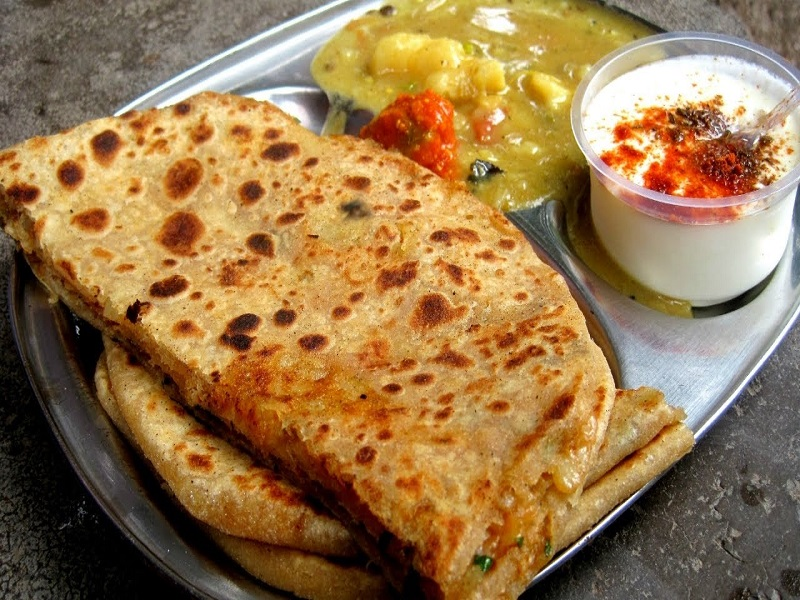aloo_paratha: (5, 102, 688, 600)
